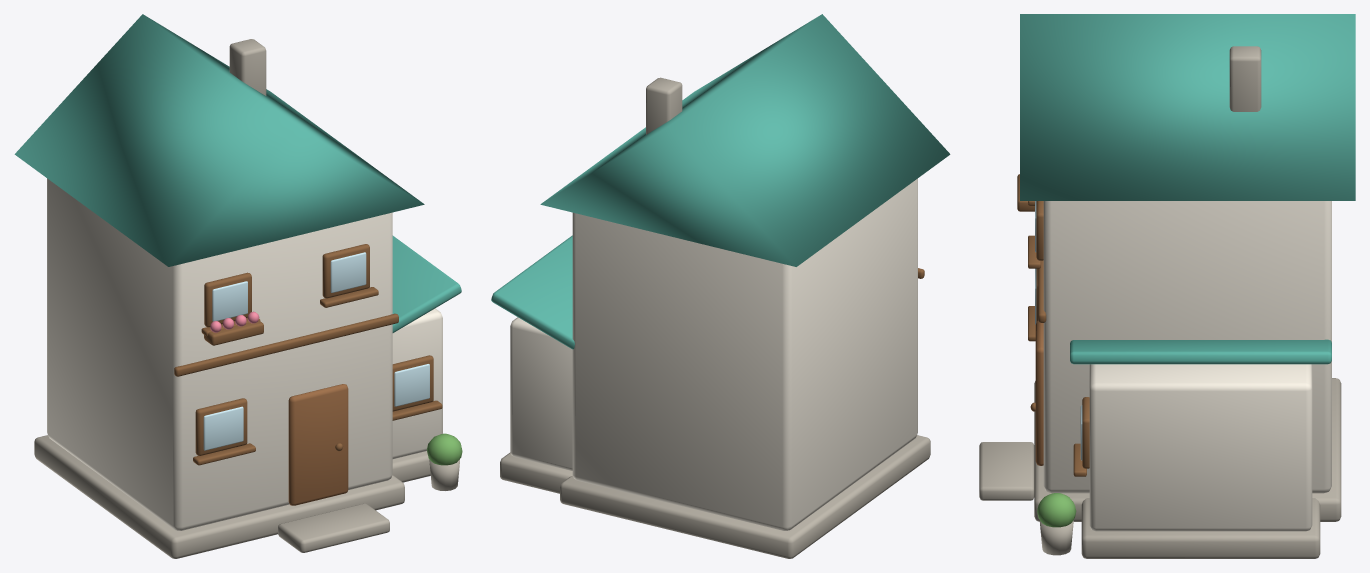
File: house-grown-2.glb
3 renders of one model, left to right at view 1: azimuth 30°, elevation 25°; view 2: azimuth 150°, elevation 25°; view 3: azimuth 270°, elevation 25°, orthographic. The views are drawn at different scales.
Visible parts, largest first — view 1: house; view 2: house; view 3: house.
Part boxes in pixels (x1=…): house: x1=14, y1=14, x2=462, y2=558; house: x1=491, y1=14, x2=950, y2=558; house: x1=979, y1=14, x2=1355, y2=558.
Bounding box in the file's own units: 3.04 × 3.77 × 2.87.
